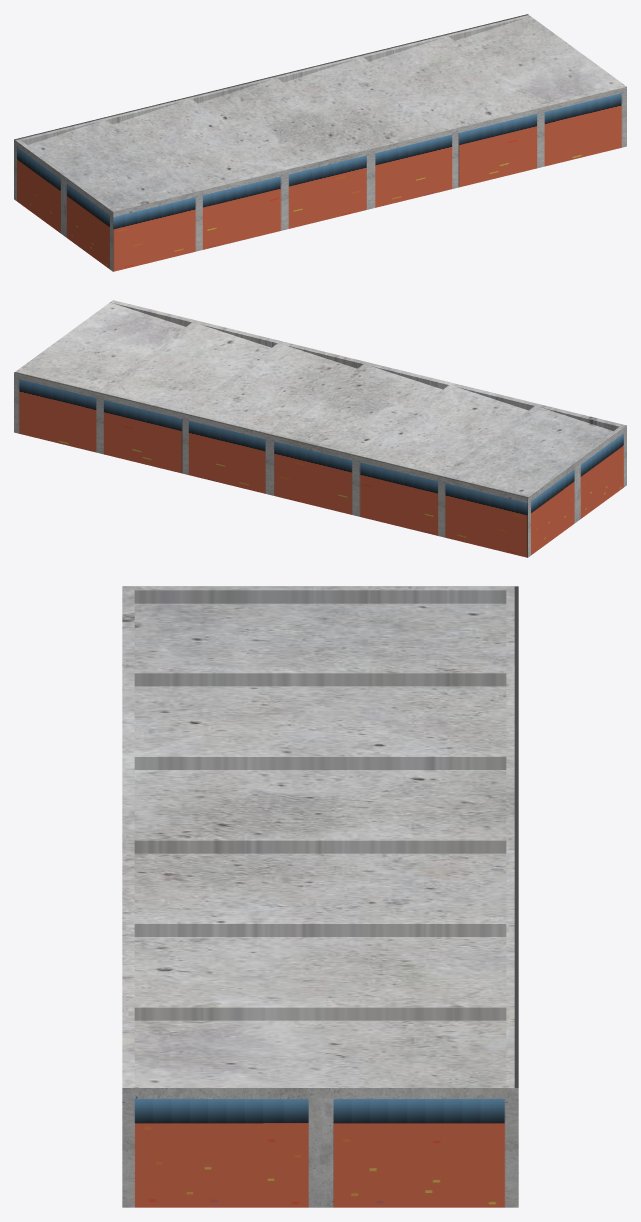
The model's file is edif-14.3.fbx.
3 views of the same model, one above another, from view 1: azimuth 30°, elevation 25°; view 2: azimuth 150°, elevation 25°; view 3: azimuth 270°, elevation 25° (orthographic). The views are drawn at different scales.
Parts seen in each view (by area): view 1: polySurface148; view 2: polySurface148; view 3: polySurface148.
Boxes of the visible parts, <box> form: polySurface148: <box>14,14,626,271</box>; polySurface148: <box>14,300,626,557</box>; polySurface148: <box>122,586,518,1207</box>.
Size of the model in its own units: 448 by 49.89 by 150.
1 material, 1 textured.
